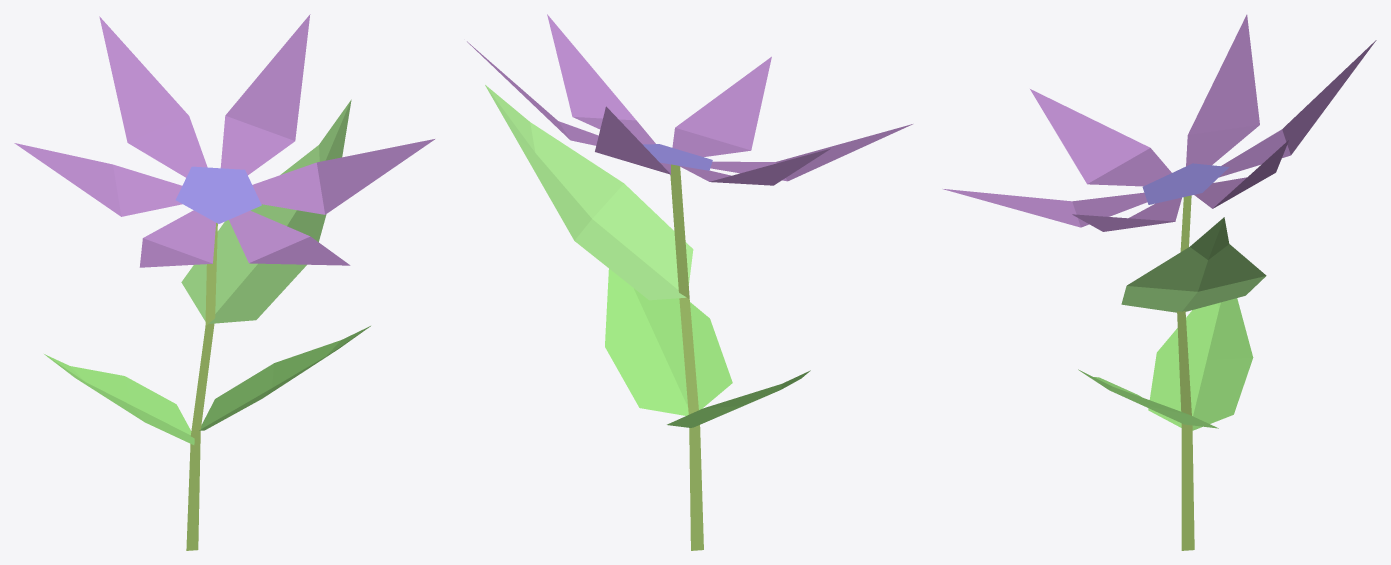
Rendered from Flower_b_TwoS_08.fbx.
3 views of the same model, side by side, from view 1: azimuth 30°, elevation 25°; view 2: azimuth 150°, elevation 25°; view 3: azimuth 270°, elevation 25° (orthographic). The views are drawn at different scales.
Visible parts, largest first — view 1: Flower_b_TwoS_08; view 2: Flower_b_TwoS_08; view 3: Flower_b_TwoS_08.
Boxes of the visible parts, bbox=[...] form: Flower_b_TwoS_08: bbox=[14, 14, 434, 550]; Flower_b_TwoS_08: bbox=[467, 14, 912, 550]; Flower_b_TwoS_08: bbox=[943, 14, 1376, 550].
Bounding box in the file's own units: 36.51 × 48.13 × 37.41.
